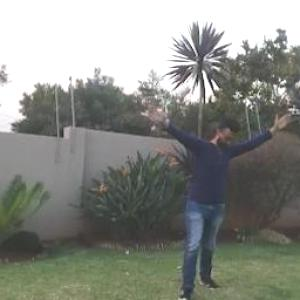takeoff: (144, 97, 290, 299)
